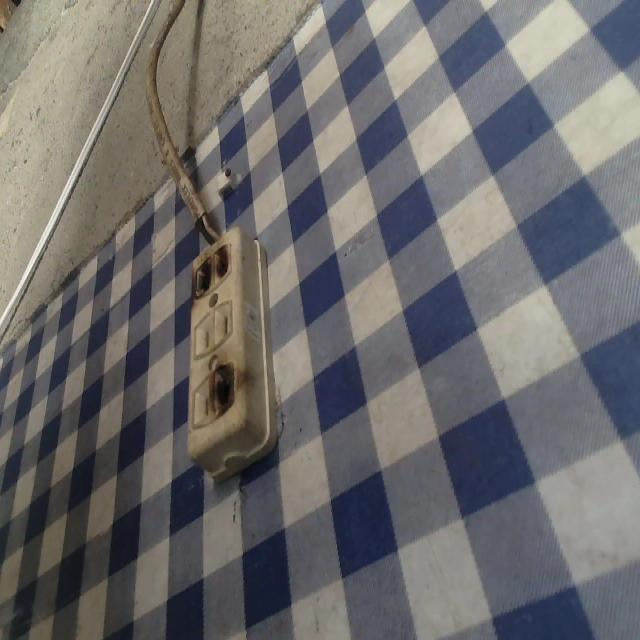-: (207, 356, 249, 419), (189, 241, 235, 296)
